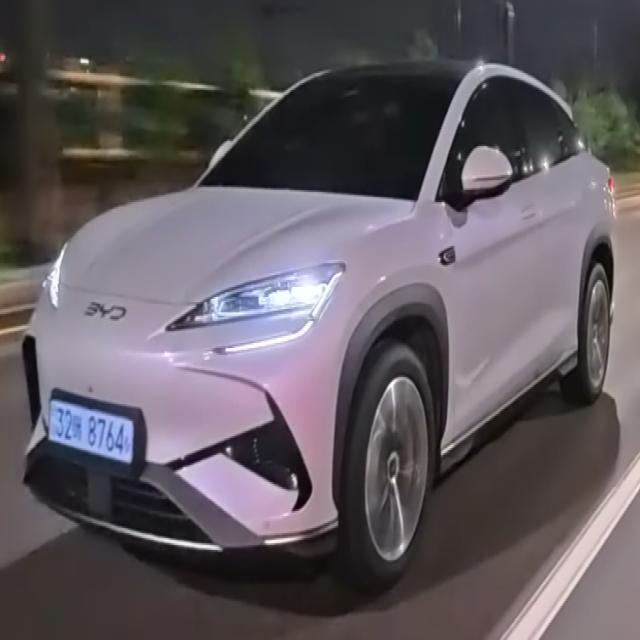car: (37, 379, 161, 488)
carev: (122, 414, 139, 470), (45, 398, 57, 446)
